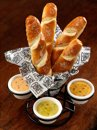pizza: (66, 78, 95, 111)
sushi: (33, 97, 63, 120)
